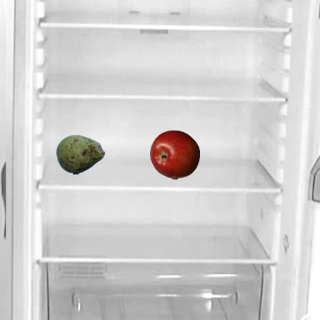Apple Braeburn: (149, 129, 199, 179)
Pear Stone: (55, 129, 105, 179)
